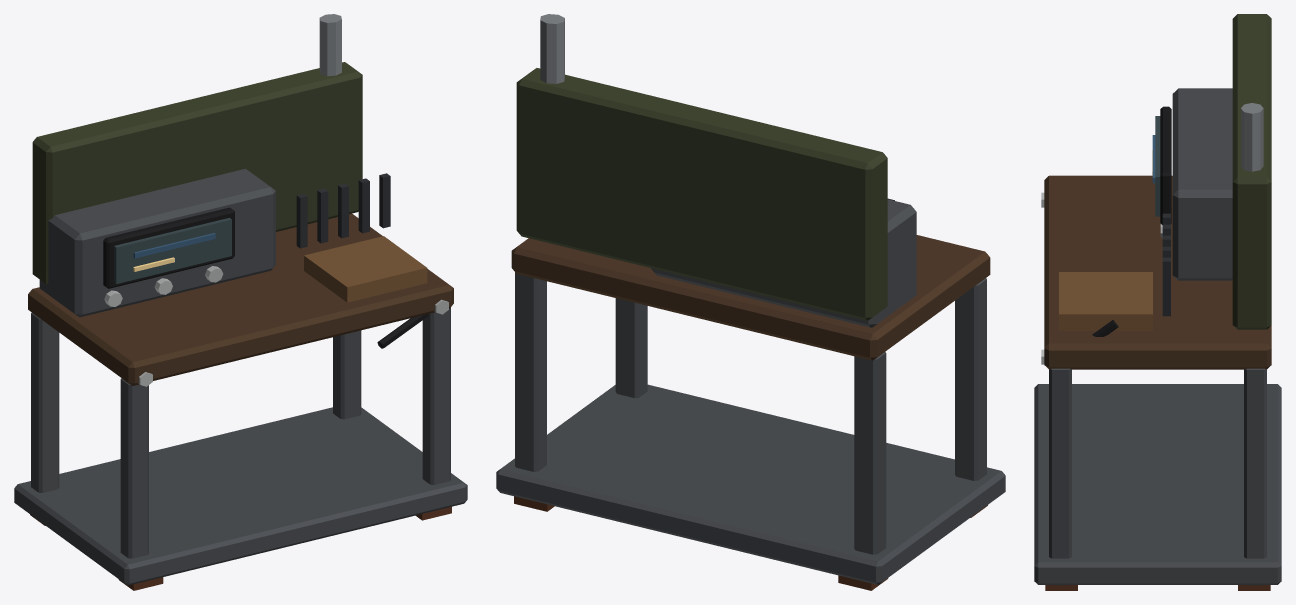
File: piece_radio_console.fbx
The picture shows the model from 3 angles, left to right: view 1: azimuth 30°, elevation 25°; view 2: azimuth 150°, elevation 25°; view 3: azimuth 270°, elevation 25°; orthographic projection. The views are drawn at different scales.
Visible parts, largest first — view 1: piece_radio_console; view 2: piece_radio_console; view 3: piece_radio_console.
Boxes of the visible parts, x1,y1,x2,y2 form: piece_radio_console: [14, 14, 467, 590]; piece_radio_console: [496, 14, 1005, 590]; piece_radio_console: [1034, 14, 1281, 590].
Bounding box in the file's own units: 1.16 × 1.39 × 0.665.
